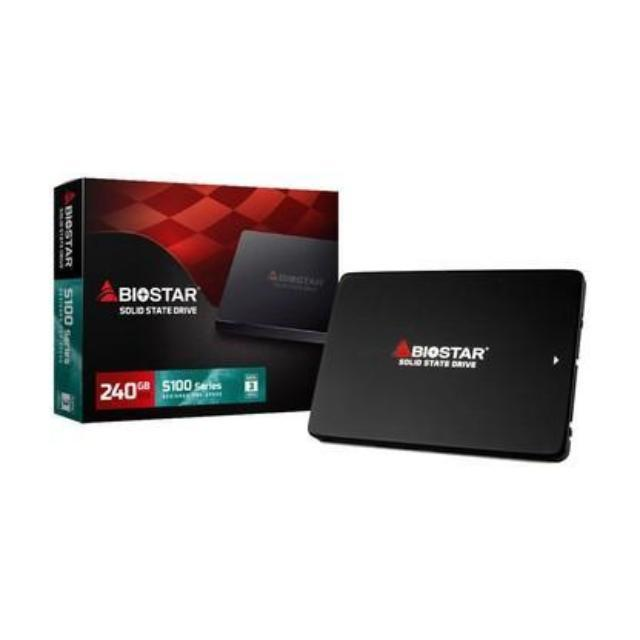DISK: (307, 259, 590, 464)
